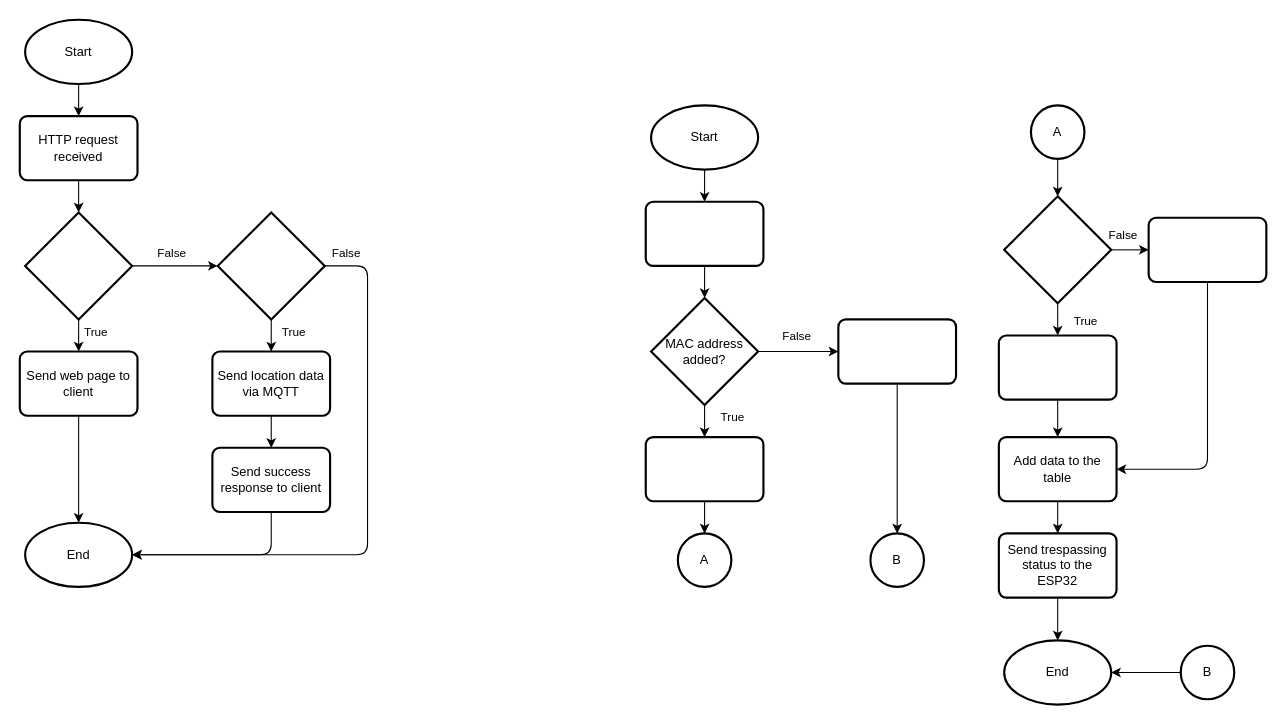
The diagram is 1285 pixels wide and 723 high, and some of its shapes have lost their labels. The shapes that lost their labels are listed below. From the top down, each one's box as (x1, y1, x2, y2) in pixels, then its label:
(644, 200, 764, 266): Location data received
(1003, 195, 1112, 304): Location within geofence boundary?
(1147, 216, 1267, 282): Set marker color to red
(24, 211, 133, 320): HTTP method is GET?
(216, 211, 325, 320): HTTP method is POST?
(837, 318, 957, 384): Discard data
(997, 334, 1117, 400): Set marker color to green
(644, 435, 764, 502): Set marker on map
